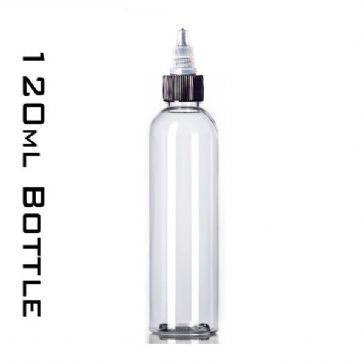emptybottle: (148, 25, 217, 339)
